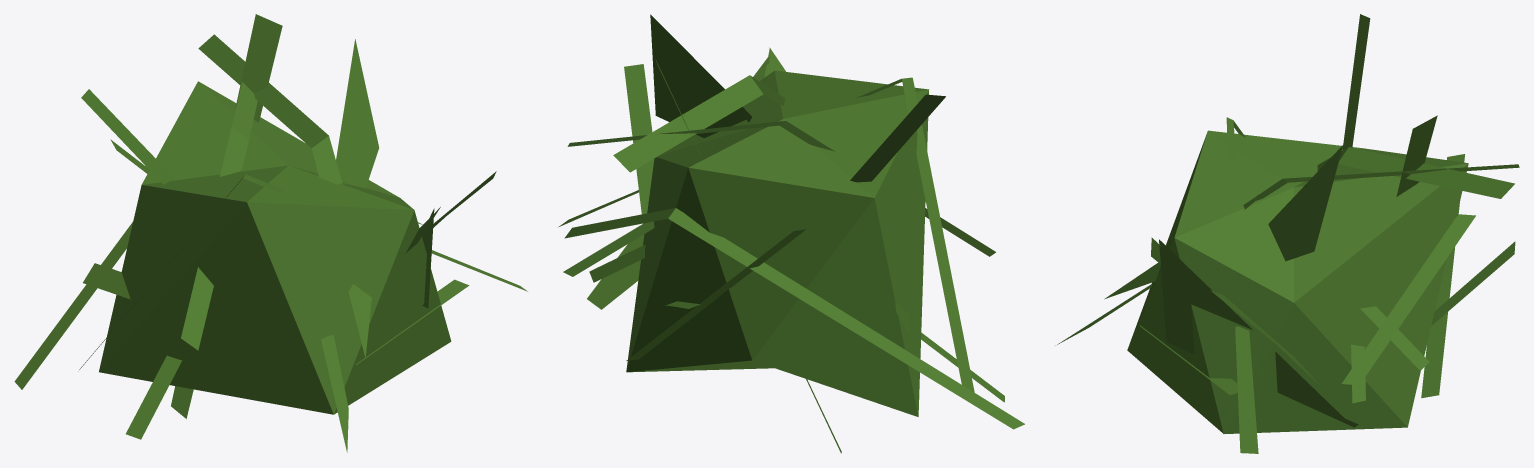
Rendered from bush.glb.
3 renders of one model, left to right at view 1: azimuth 30°, elevation 25°; view 2: azimuth 150°, elevation 25°; view 3: azimuth 270°, elevation 25°, orthographic. The views are drawn at different scales.
Visible parts, largest first — view 1: Bush; view 2: Bush; view 3: Bush.
Boxes of the visible parts, left/top/right/bottom form: Bush: left=14, top=14, right=527, bottom=452; Bush: left=559, top=14, right=1024, bottom=453; Bush: left=1055, top=14, right=1519, bottom=453.
Size of the model in its own units: 2.57 by 1.86 by 2.26.
